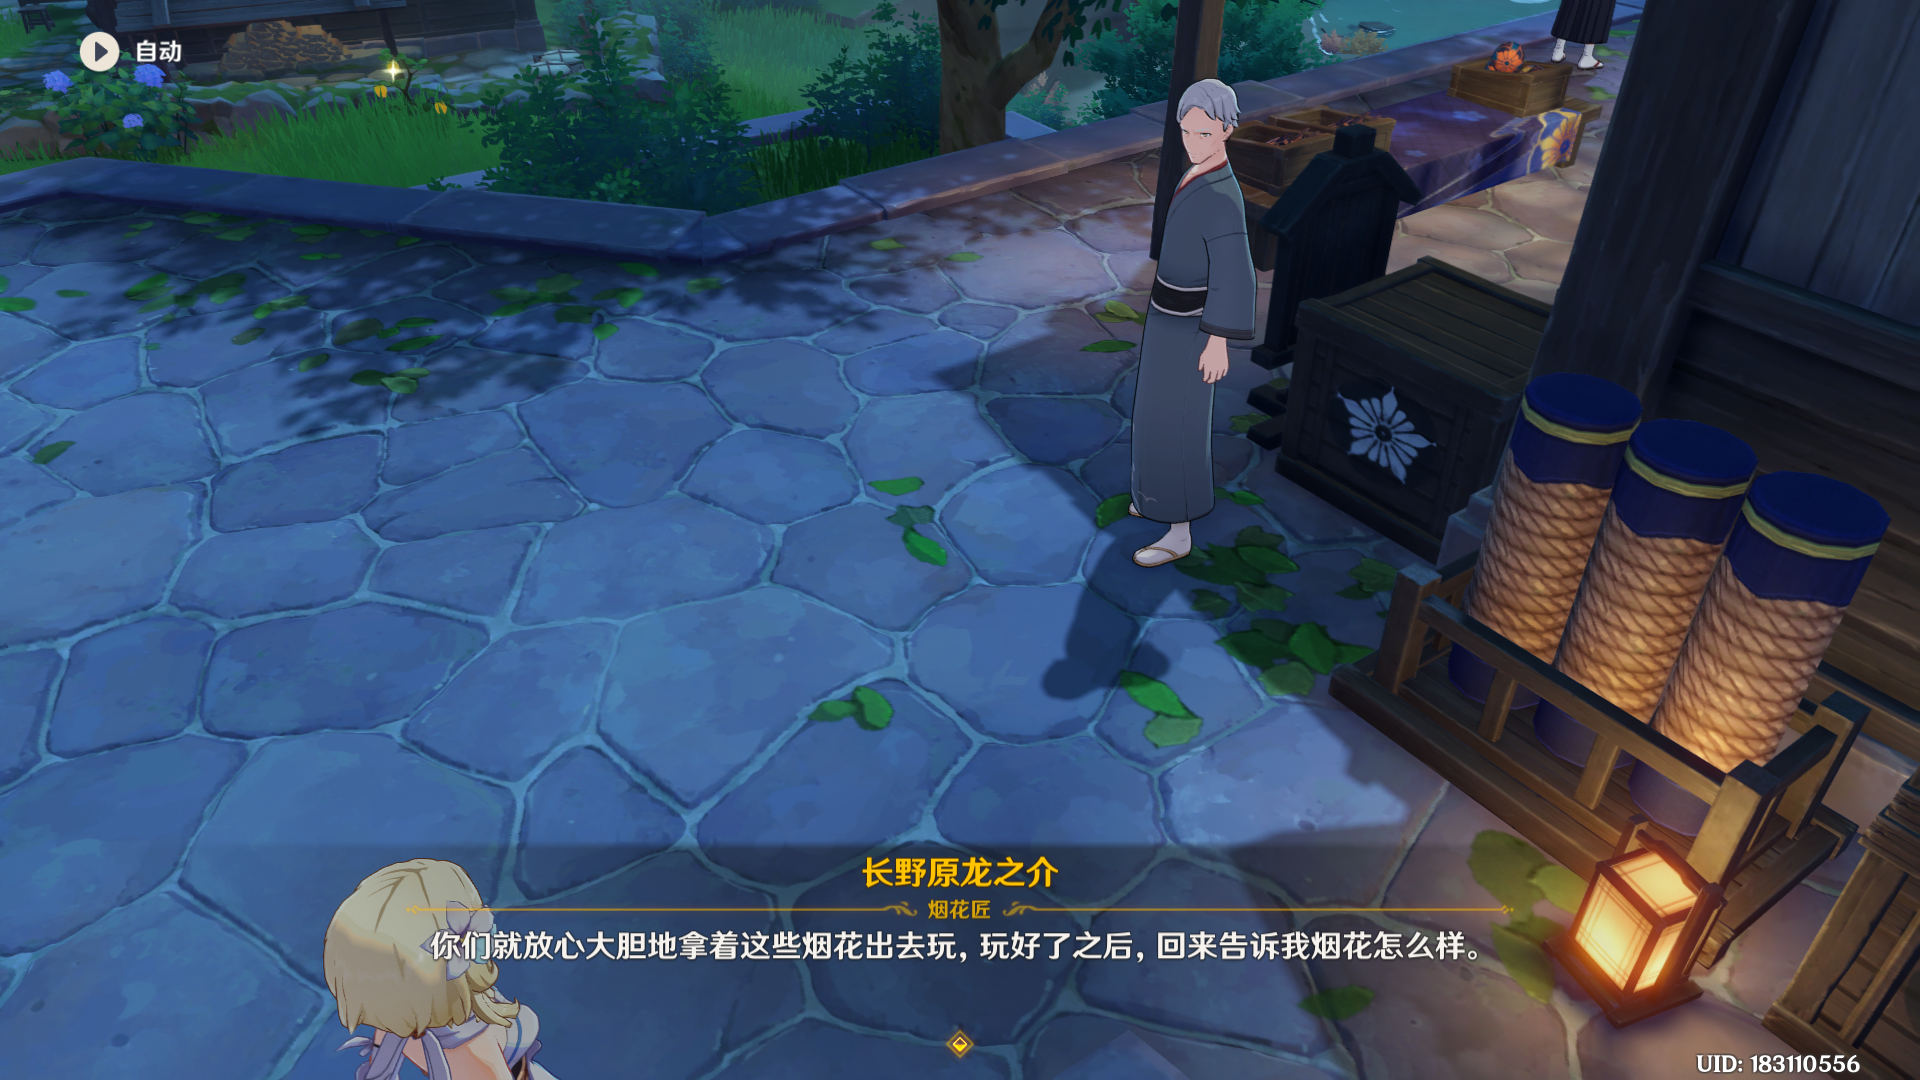character: (268, 831, 622, 1080)
